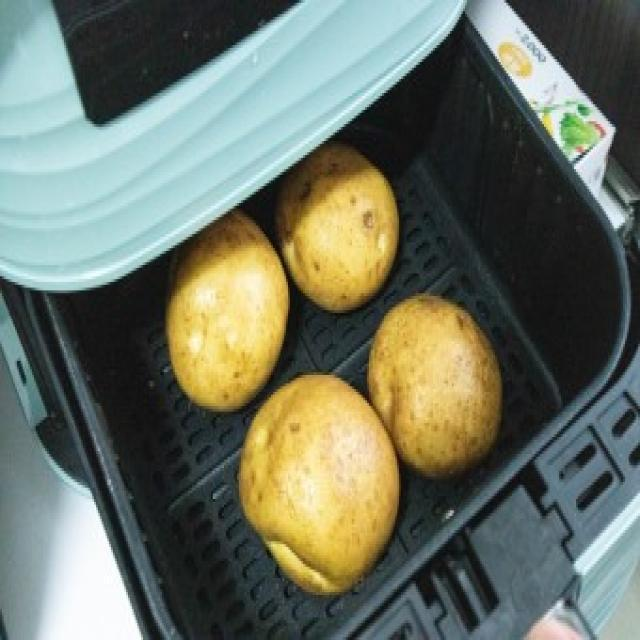potato: (236, 367, 402, 596), (164, 200, 290, 412), (364, 288, 504, 472), (282, 133, 400, 314)
